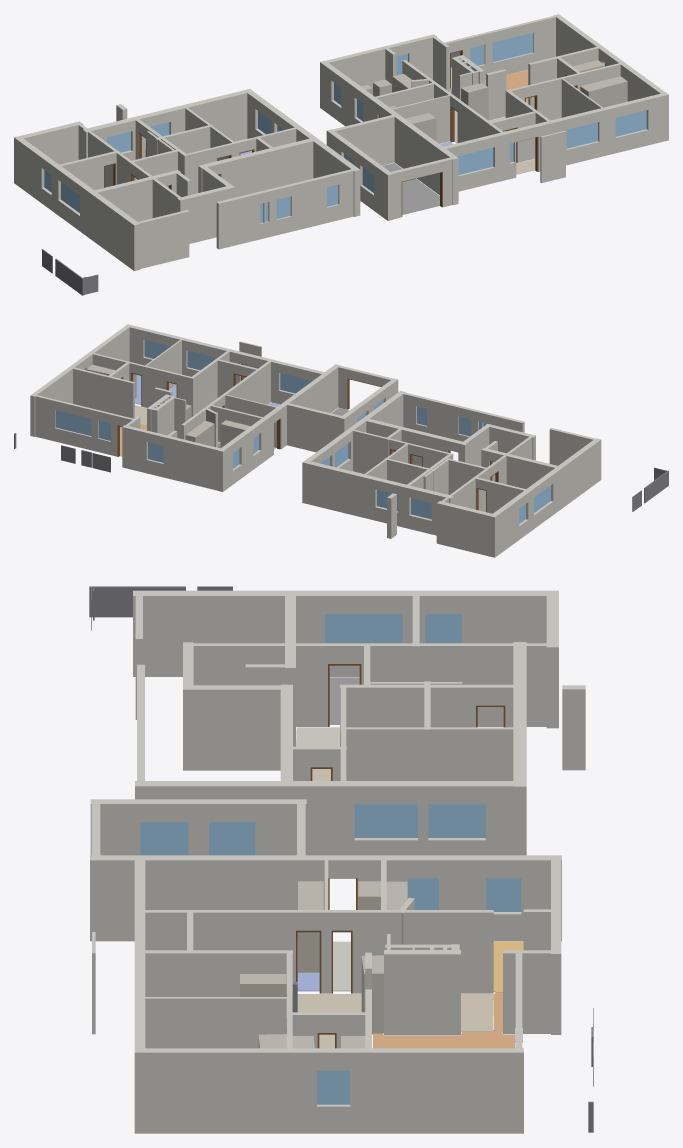
3 renders of one model, top to bottom at view 1: azimuth 30°, elevation 25°; view 2: azimuth 150°, elevation 25°; view 3: azimuth 270°, elevation 25°, orthographic. The views are drawn at different scales.
Visible parts, largest first — view 1: walls, floor_16_Garage, railings, furniture_6_closet, window_29, furniture_2_closet, window_0, window_2, window_1, furniture_5_closet; view 2: walls, railings, window_29, furniture_0_closet, furniture_1_closet, window_0, window_1, window_10; view 3: walls, floor_2_Entry, floor_1_Living_Room, railings, window_15, window_20, window_12, window_14, furniture_5_closet, window_30, furniture_2_closet, window_6 (+6 smaller).
Boxes of the visible parts, left/top/right/bottom form: walls: left=14, top=14, right=668, bottom=270; floor_16_Garage: left=382, top=163, right=439, bottom=214; railings: left=42, top=51, right=460, bottom=295; furniture_6_closet: left=580, top=76, right=627, bottom=107; window_29: left=492, top=33, right=532, bottom=61; furniture_2_closet: left=461, top=83, right=488, bottom=120; window_0: left=457, top=148, right=493, bottom=174; window_2: left=615, top=110, right=646, bottom=136; window_1: left=566, top=122, right=597, bottom=148; furniture_5_closet: left=405, top=113, right=436, bottom=141; walls: left=30, top=324, right=601, bottom=557; railings: left=14, top=433, right=668, bottom=511; window_29: left=55, top=410, right=91, bottom=435; furniture_0_closet: left=185, top=420, right=214, bottom=446; furniture_1_closet: left=220, top=420, right=250, bottom=447; window_0: left=280, top=373, right=312, bottom=393; window_1: left=187, top=350, right=215, bottom=370; window_10: left=411, top=498, right=431, bottom=519; walls: left=90, top=590, right=585, bottom=1133; floor_2_Entry: left=297, top=994, right=493, bottom=1048; floor_1_Living_Room: left=372, top=992, right=515, bottom=1048; railings: left=89, top=586, right=593, bottom=1132; window_15: left=325, top=614, right=402, bottom=643; window_20: left=354, top=804, right=417, bottom=837; window_12: left=428, top=804, right=485, bottom=837; window_14: left=140, top=822, right=188, bottom=855; furniture_5_closet: left=298, top=881, right=323, bottom=972; window_30: left=209, top=822, right=255, bottom=855; furniture_2_closet: left=361, top=955, right=383, bottom=1033; window_6: left=486, top=878, right=521, bottom=911.
Size of the model in its own units: 37 by 2.72 by 15.24.
